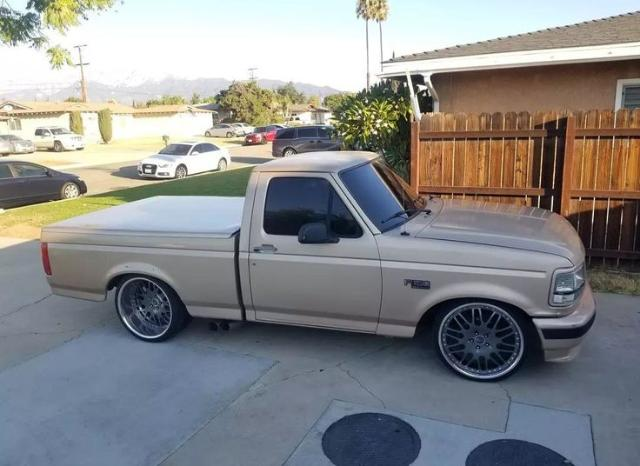car: (0, 160, 88, 211), (134, 138, 233, 177)
pickup-truck: (39, 149, 597, 382)
